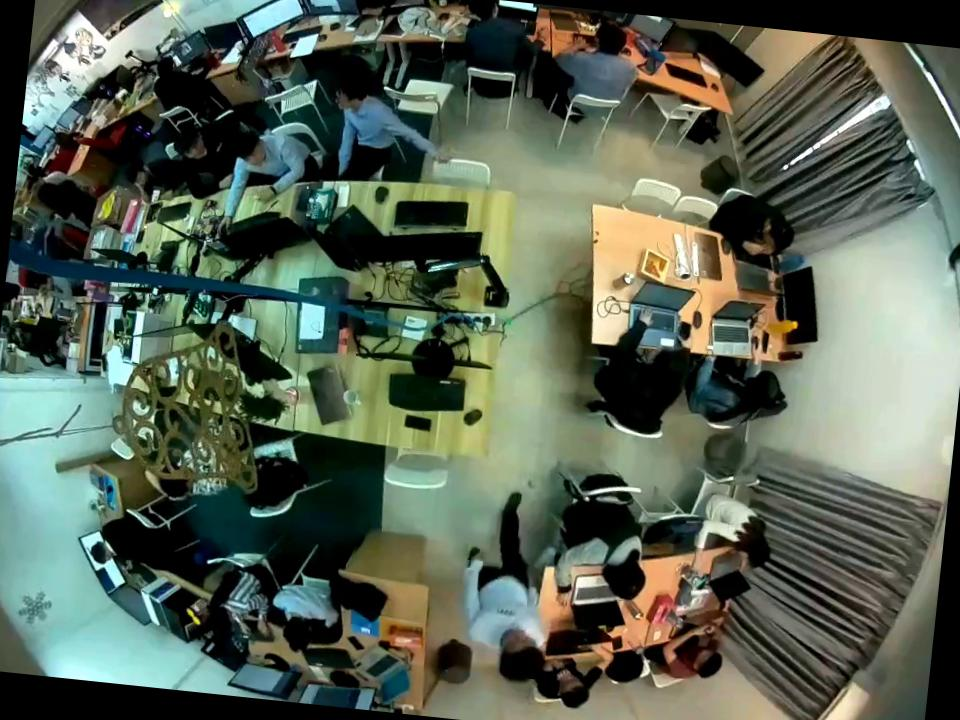employee_tag: (497, 606, 518, 620)
